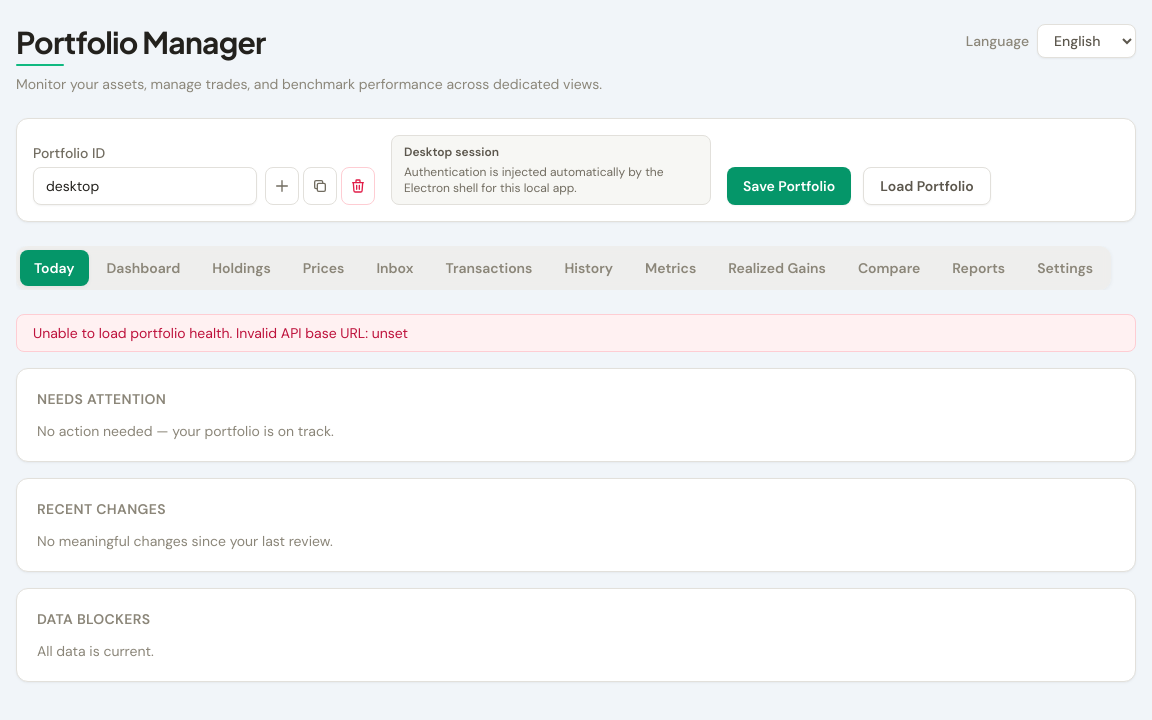
App pricing status UX › bootstraps dashboard valuation from the latest official close when the market is closed
This screenshot has width=1152, height=720.
Click the tab "Dashboard" at [143, 268], box top-left (92, 250), bottom-right (194, 286)
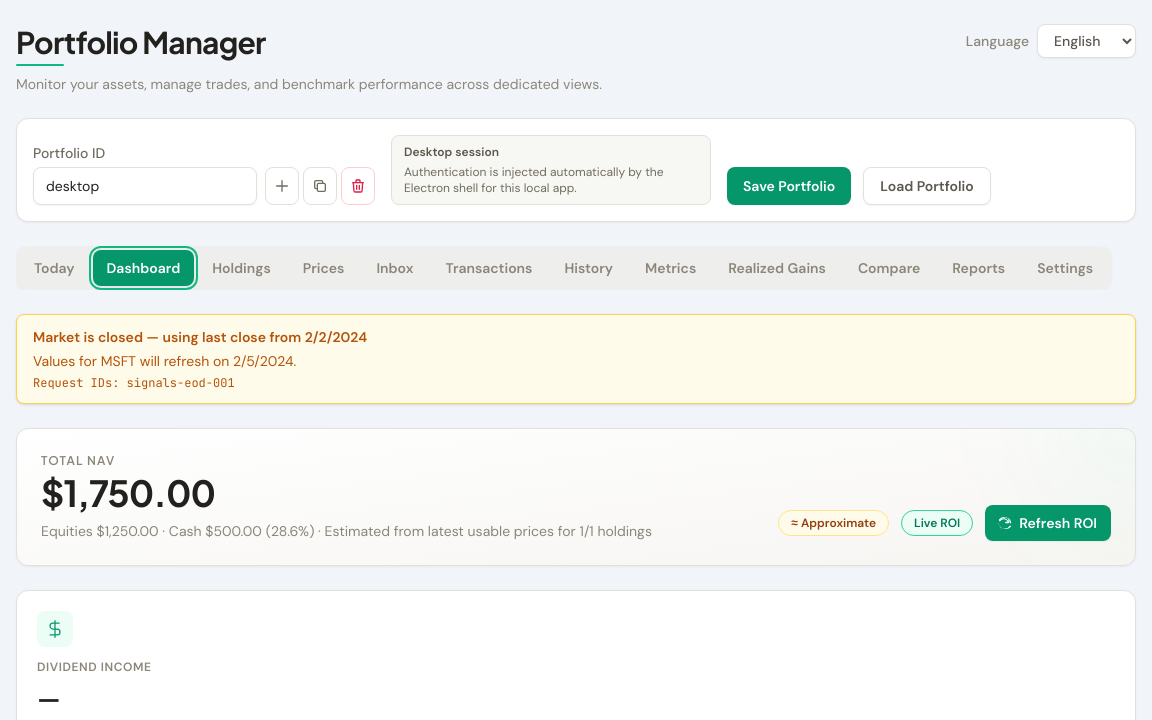
Result: the text "$1,750.00" is shown at top-left (41, 470), bottom-right (215, 515)
Result: the text "$1,250.00" is shown at top-left (41, 522), bottom-right (652, 540)
